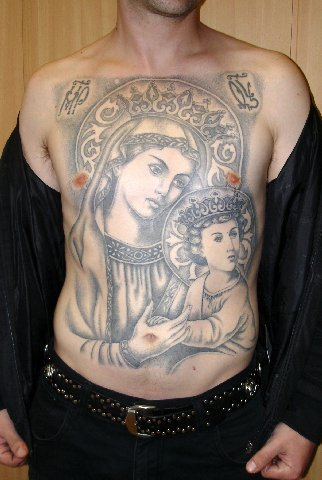tatu2_bogorodica: (65, 66, 256, 357)
